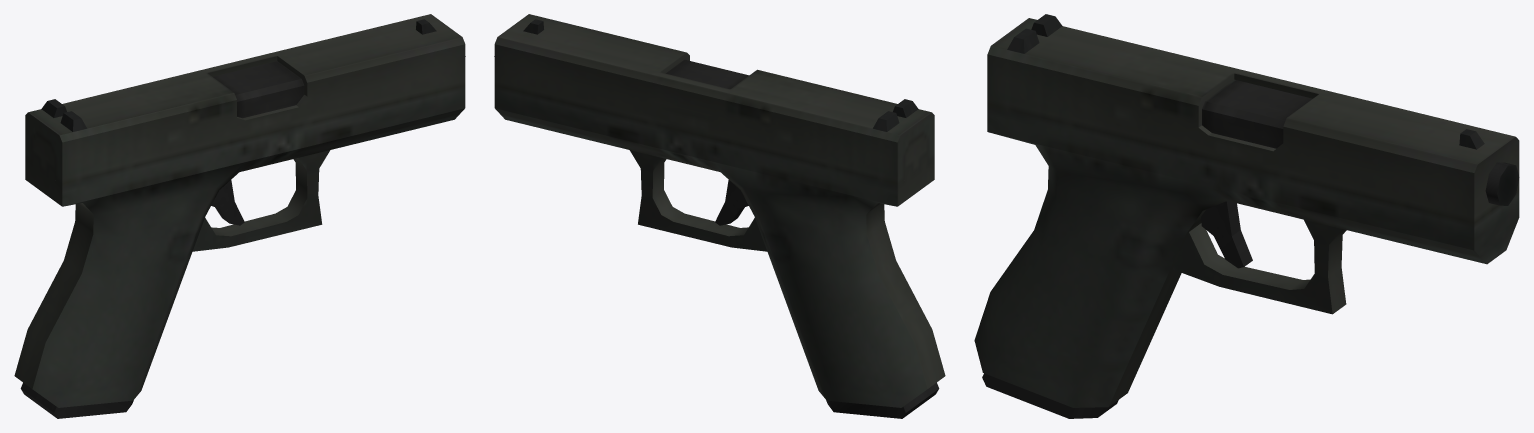
Rendered from pistol_mp_1_2.obj.
The picture shows the model from 3 angles, left to right: view 1: azimuth 30°, elevation 25°; view 2: azimuth 150°, elevation 25°; view 3: azimuth 330°, elevation 25°; orthographic projection. The views are drawn at different scales.
Parts seen in each view (by area): view 1: pistol_mp_1_2, pistol_mp_1_2_slide, pistol_mp_1_2_mag_initial, pistol_mp_1_2_trigger; view 2: pistol_mp_1_2, pistol_mp_1_2_slide, pistol_mp_1_2_mag_initial, pistol_mp_1_2_trigger; view 3: pistol_mp_1_2, pistol_mp_1_2_slide, pistol_mp_1_2_trigger, pistol_mp_1_2_mag_initial.
Boxes of the visible parts, x1=… form: pistol_mp_1_2: x1=14, y1=56, x2=465, y2=407; pistol_mp_1_2_slide: x1=25, y1=14, x2=465, y2=185; pistol_mp_1_2_mag_initial: x1=20, y1=382, x2=133, y2=418; pistol_mp_1_2_trigger: x1=211, y1=180, x2=244, y2=225; pistol_mp_1_2: x1=494, y1=56, x2=945, y2=407; pistol_mp_1_2_slide: x1=494, y1=14, x2=934, y2=185; pistol_mp_1_2_mag_initial: x1=826, y1=382, x2=939, y2=418; pistol_mp_1_2_trigger: x1=715, y1=180, x2=748, y2=225; pistol_mp_1_2: x1=974, y1=79, x2=1519, y2=407; pistol_mp_1_2_slide: x1=987, y1=14, x2=1519, y2=225; pistol_mp_1_2_trigger: x1=1201, y1=201, x2=1252, y2=268; pistol_mp_1_2_mag_initial: x1=982, y1=373, x2=1118, y2=418.
Bounding box in the file's own units: 0.2691 × 0.1802 × 0.04.
